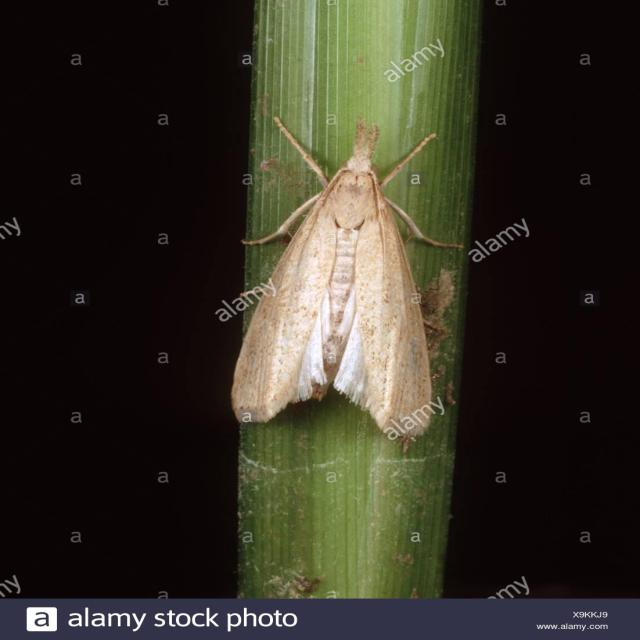yellow-stem-borer: (206, 82, 538, 484)
